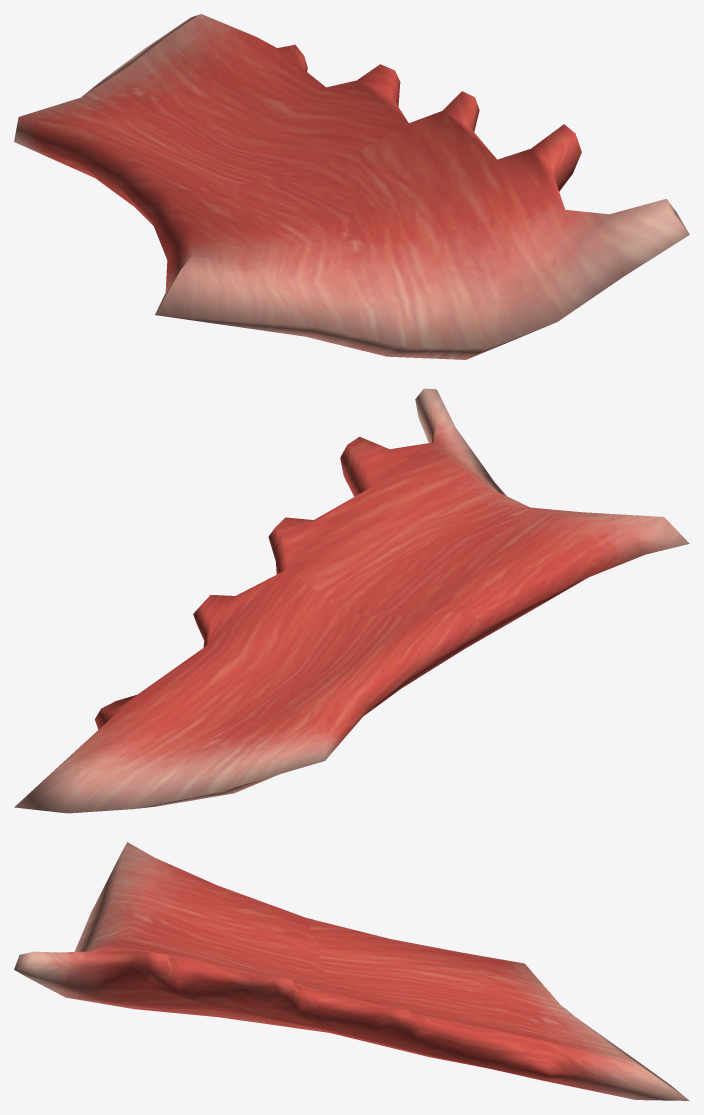
The model's file is QuadLombar.fbx.
3 views of the same model, one above another, from view 1: azimuth 30°, elevation 25°; view 2: azimuth 150°, elevation 25°; view 3: azimuth 270°, elevation 25° (orthographic). The views are drawn at different scales.
Visible parts, largest first — view 1: QuadLombar; view 2: QuadLombar; view 3: QuadLombar.
Part boxes in pixels (x1,y1,x2,y2): QuadLombar: (14,14,689,359); QuadLombar: (14,388,689,813); QuadLombar: (14,842,689,1100).
Size of the model in its own units: 29.5 by 13.54 by 56.23.
